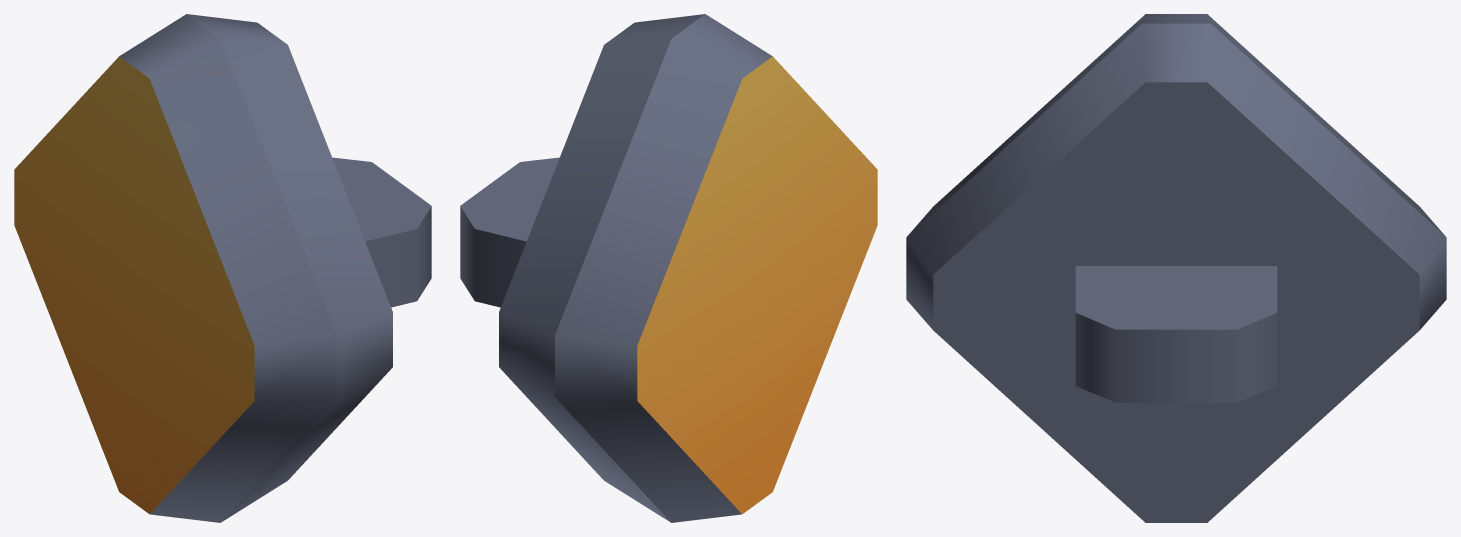
The model's file is road-sign-object-warning.glb.
The picture shows the model from 3 angles, left to right: view 1: azimuth 30°, elevation 25°; view 2: azimuth 150°, elevation 25°; view 3: azimuth 270°, elevation 25°; orthographic projection.
Visible parts, largest first — view 1: road-sign-object-warning; view 2: road-sign-object-warning; view 3: road-sign-object-warning.
Boxes of the visible parts, bbox=[...] form: road-sign-object-warning: bbox=[14, 14, 431, 522]; road-sign-object-warning: bbox=[460, 14, 877, 522]; road-sign-object-warning: bbox=[906, 14, 1446, 522].
Bounding box in the file's own units: 0.0773 × 0.1338 × 0.1338.
1 material, 1 textured.
